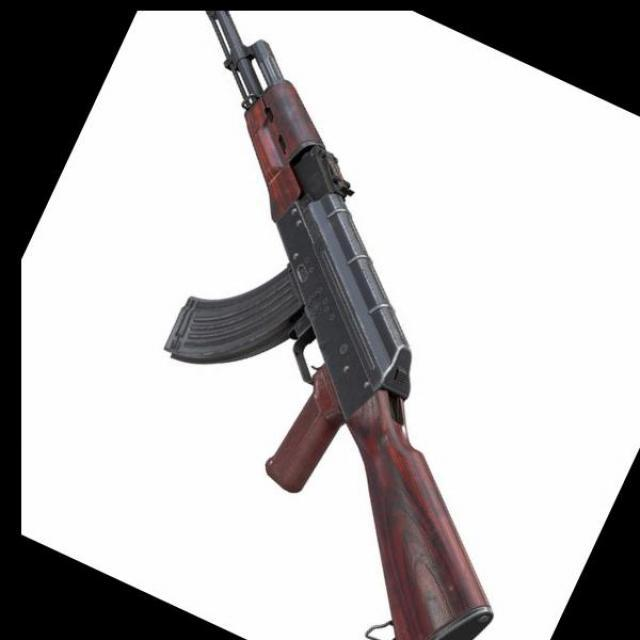weapon: (159, 10, 493, 640)
